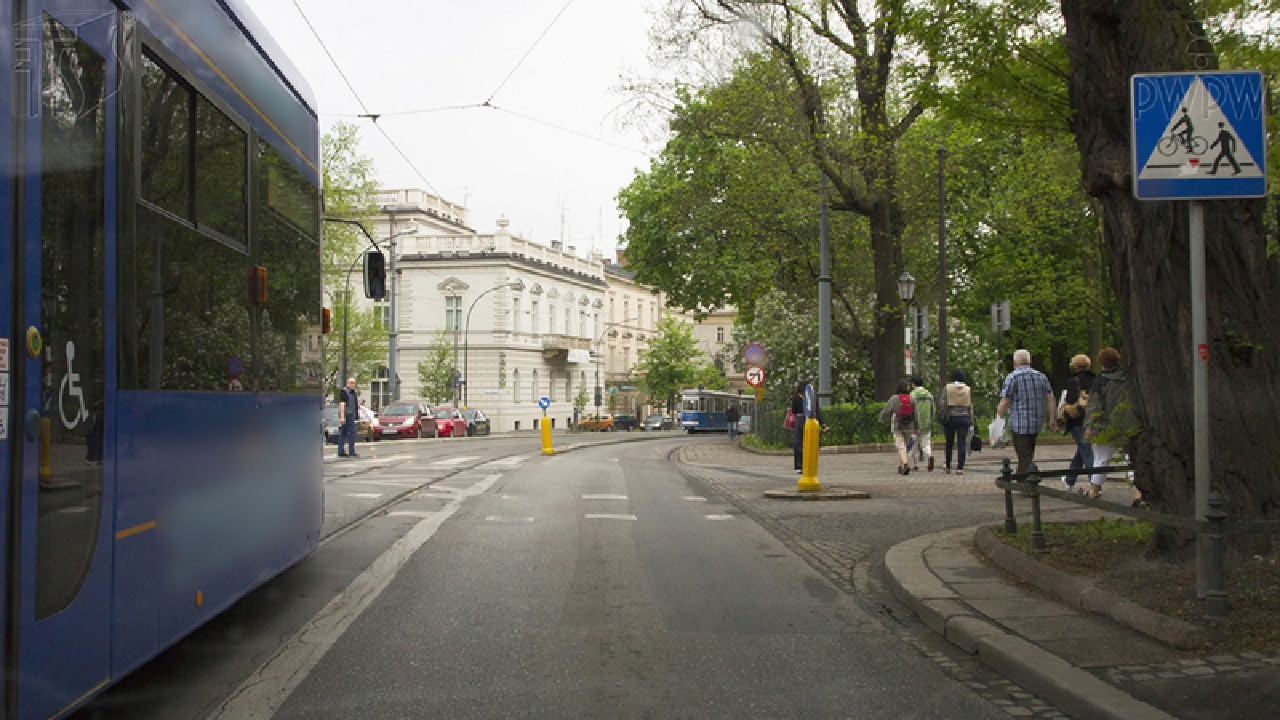D6b: (1131, 73, 1267, 201)
